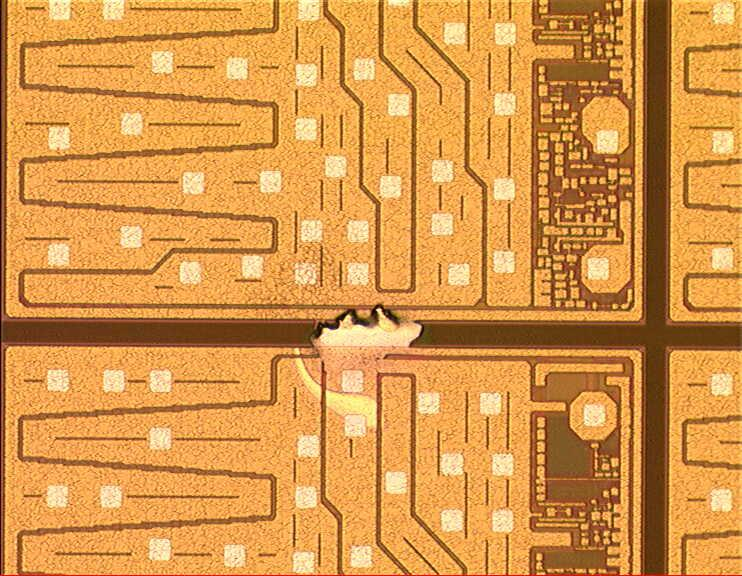BLOCK ETCH: (291, 300, 424, 438)
